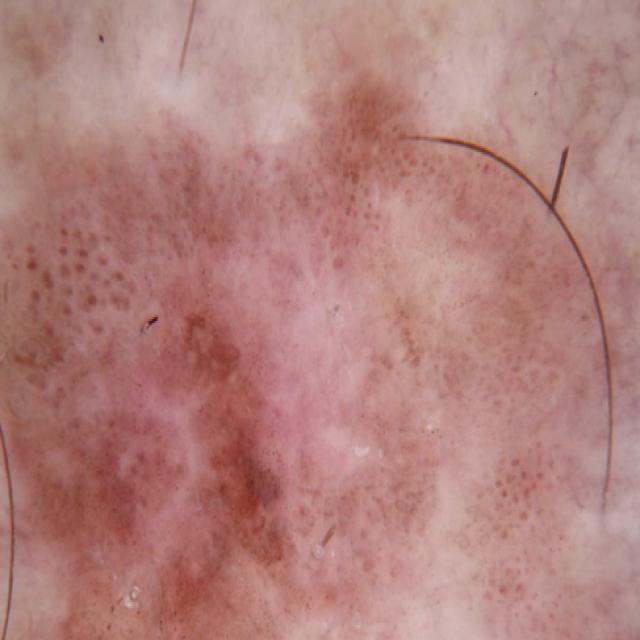Carcinoma: (0, 59, 594, 640)
